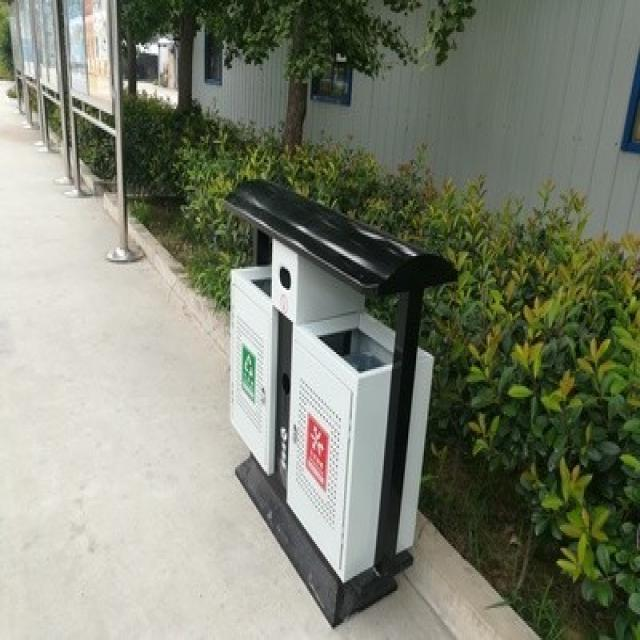ash bin: (220, 175, 458, 625)
